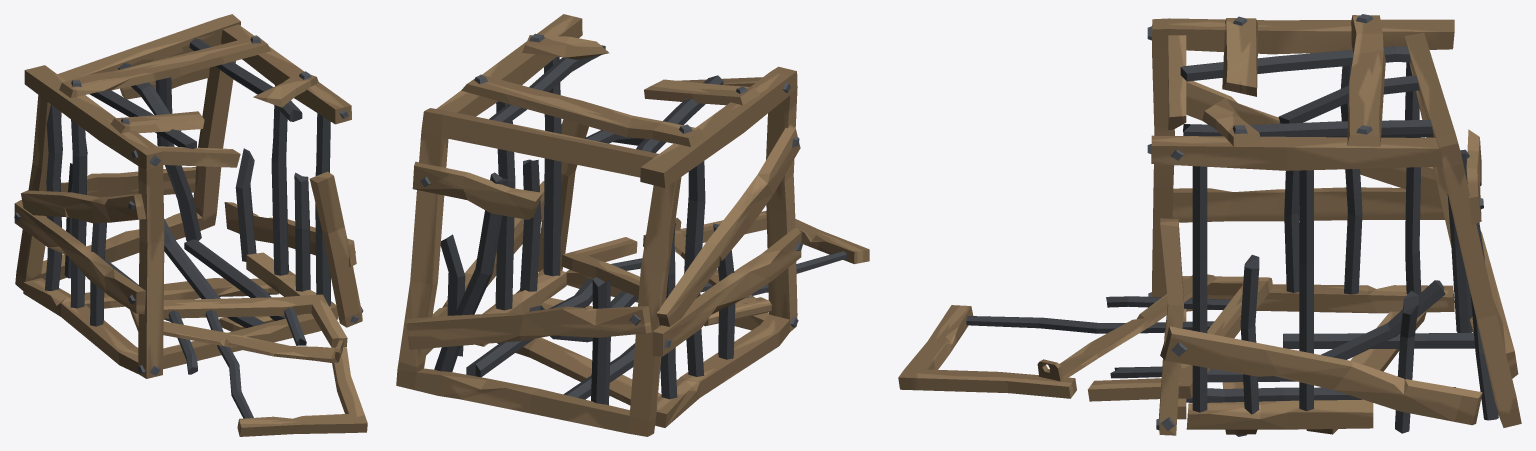
The model's file is SM_Prop_Cage_Broken_01.fbx.
3 renders of one model, left to right at view 1: azimuth 30°, elevation 25°; view 2: azimuth 150°, elevation 25°; view 3: azimuth 270°, elevation 25°, orthographic. The views are drawn at different scales.
Parts seen in each view (by area): view 1: SM_Prop_Cage_Broken_01; view 2: SM_Prop_Cage_Broken_01; view 3: SM_Prop_Cage_Broken_01.
Boxes of the visible parts, bbox=[...] form: SM_Prop_Cage_Broken_01: bbox=[14, 14, 367, 436]; SM_Prop_Cage_Broken_01: bbox=[396, 14, 869, 436]; SM_Prop_Cage_Broken_01: bbox=[898, 14, 1521, 436].
Size of the model in its own units: 98.9 by 99.03 by 182.
